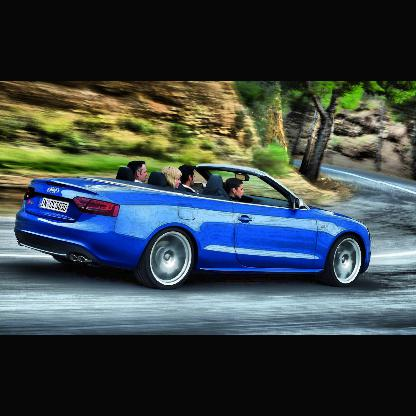Audi S5 Convertible 2012: (14, 161, 372, 288)
